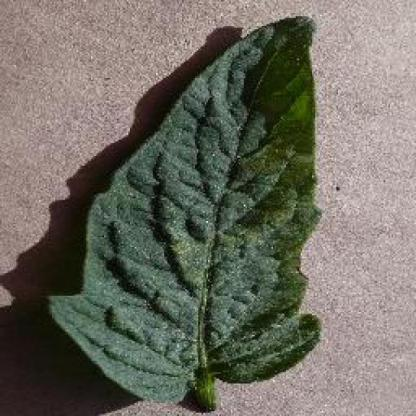Tomato_Spider_Mites: (48, 15, 320, 396)
